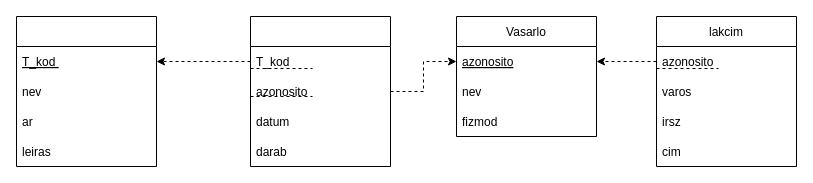
This 813x183 diagram has some shape labels left out. The shapes that lost their labels are listed below. From the top down, each one's box as (x1, y1, x2, y2) in pixels, then its label:
(16, 16, 156, 166): Termek
(250, 16, 390, 166): vasarlas
